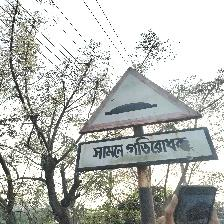Speed-breaker: (76, 67, 218, 171)
